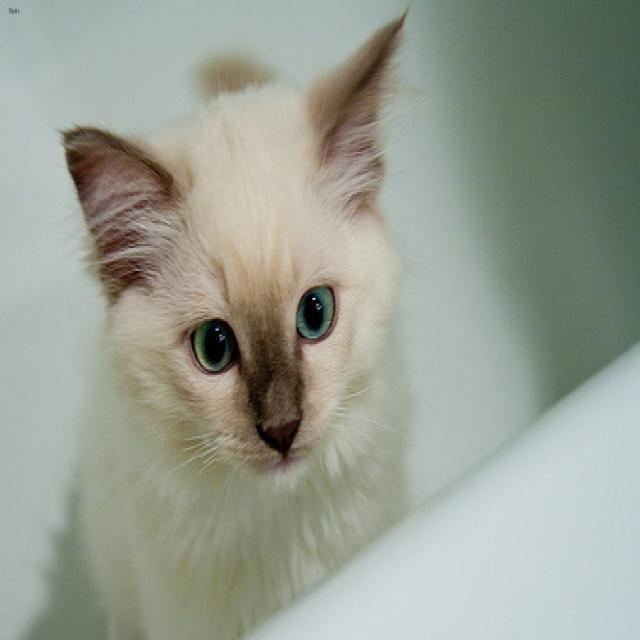Ragdoll: (57, 10, 409, 496)
